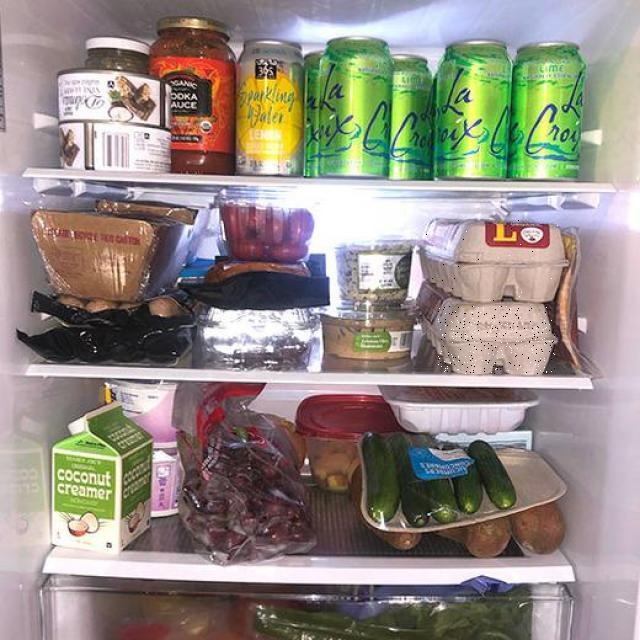eggs: (419, 219, 559, 301), (438, 306, 555, 374)
